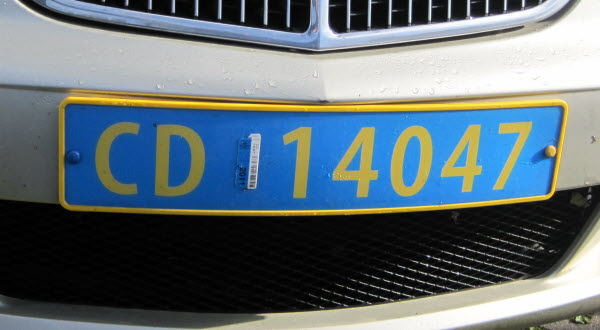license_plate: (58, 96, 569, 216)
